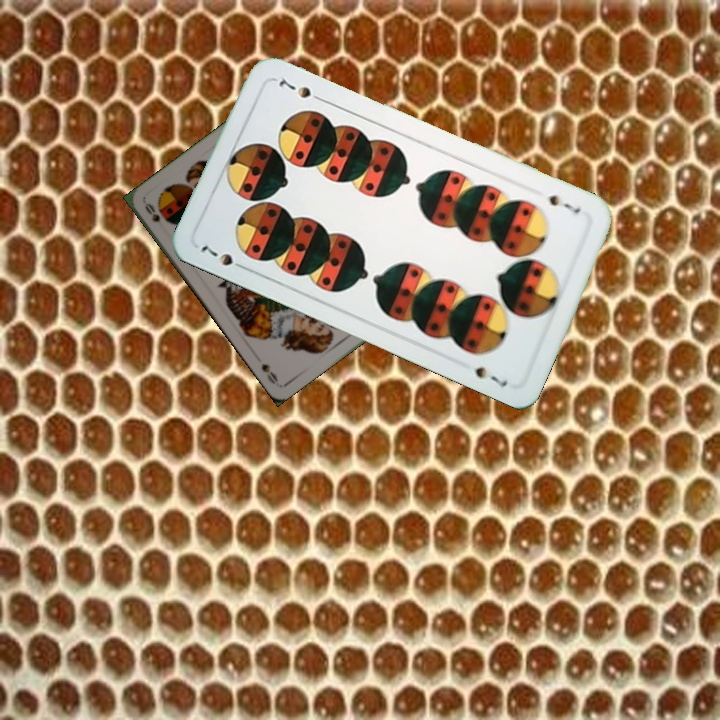S7: (196, 237, 250, 273), (544, 190, 583, 216)
SO: (141, 199, 163, 225)
